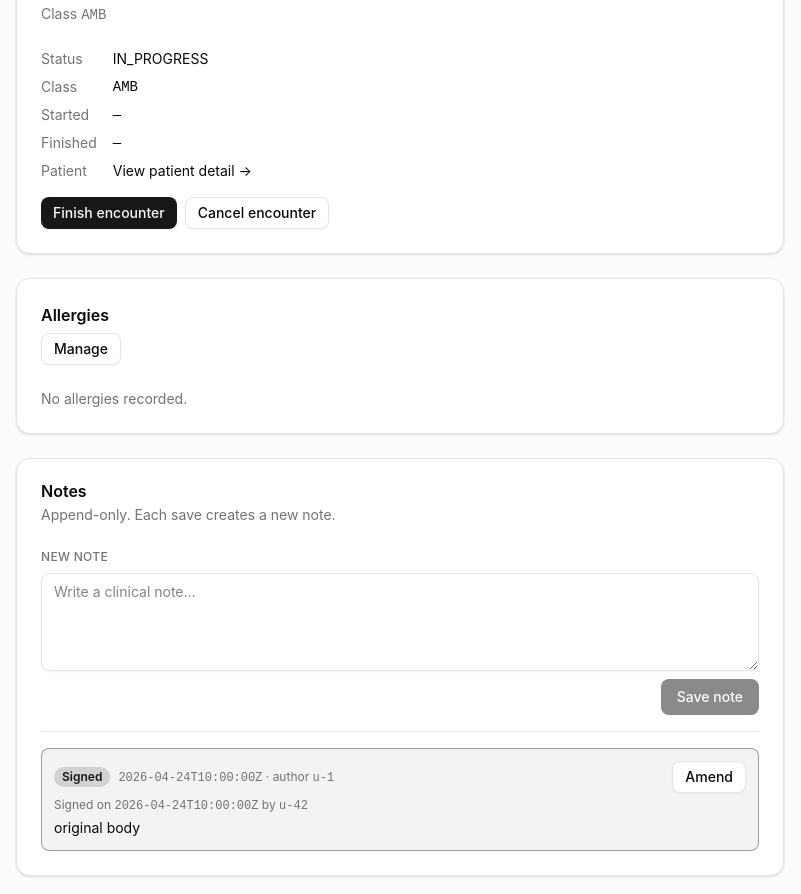
Test case: <EncounterDetailPage /> › submitting an amendment threads it under the original after refetch
(page scrolled)
Expected: the list with test id "notes-list" is shown, [41,748,759,851]
Click the button with test id "amend-note-button" at (709, 777), box [672,761,746,793]
(page scrolled)
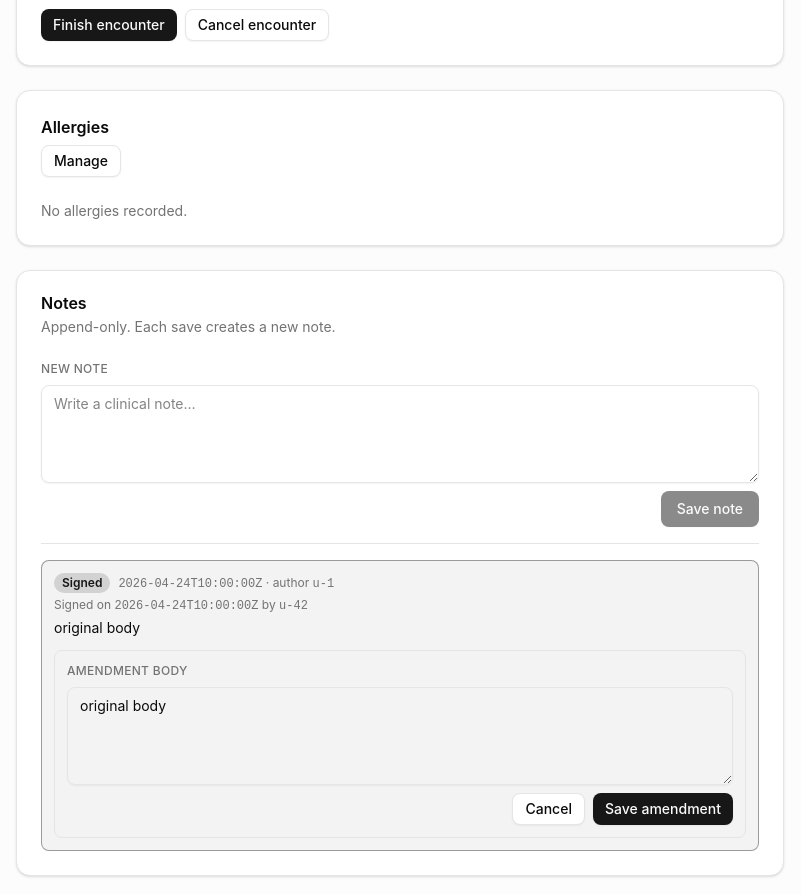
Now the text box with test id "amend-note-textarea" holds "original body"
Note: Replace the text and save.
Replace the text in the text box with test id "amend-note-textarea" with "Correction: dosage was wrong." at (400, 736), box [67,687,733,785]
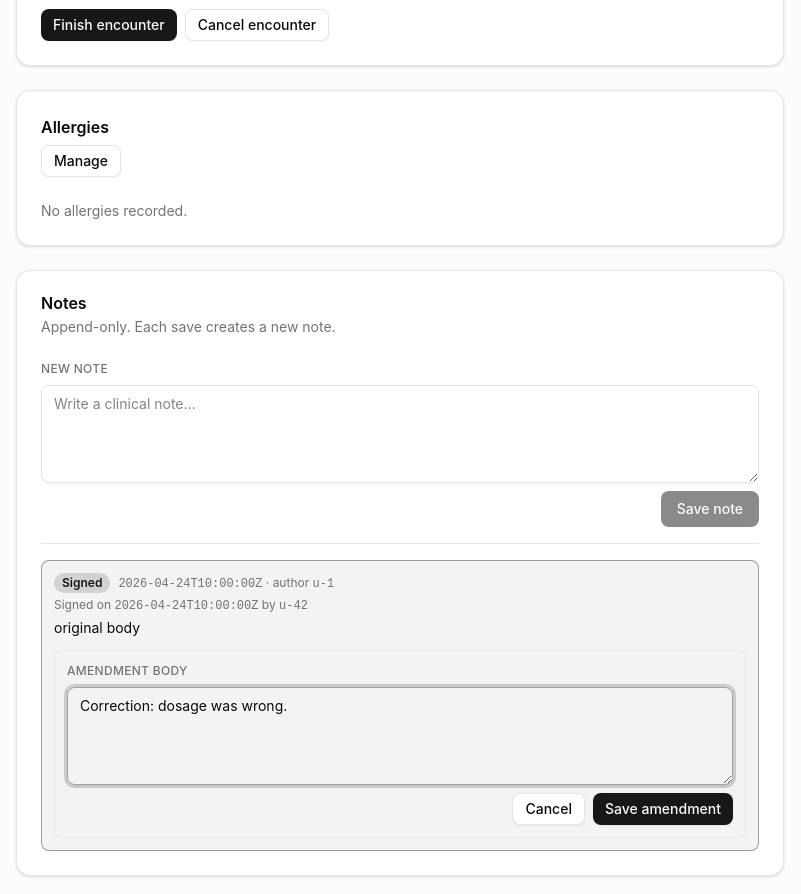
Click the button with test id "amend-save-button" at (663, 809), box [593,793,733,825]
(page scrolled)
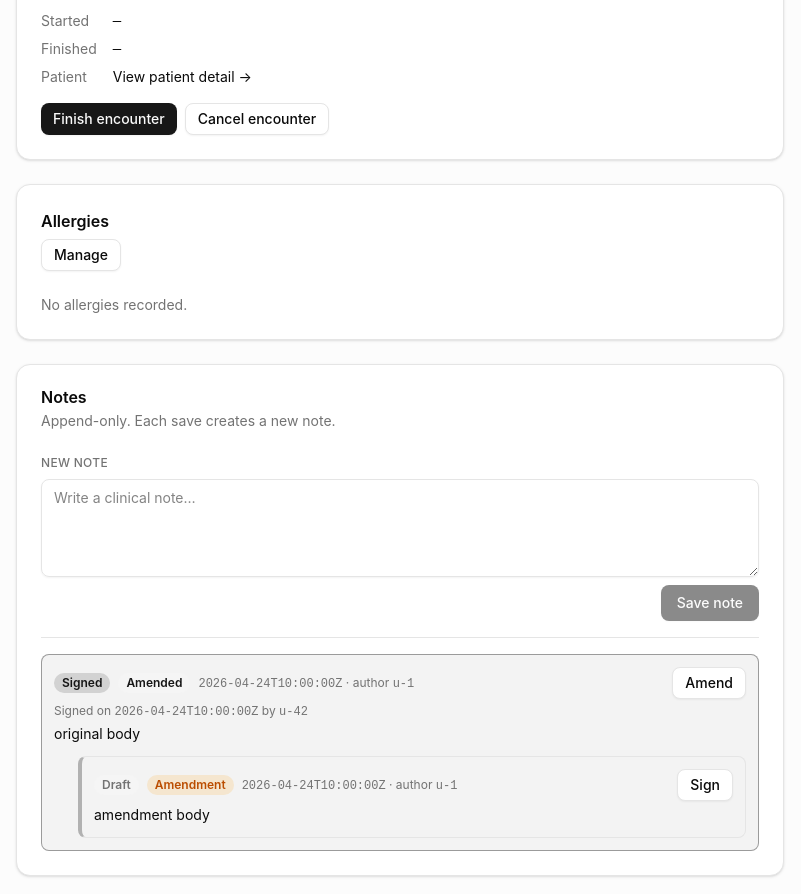
Now the list with test id "note-amendments-thread" is shown, box [54,756,746,838]
Now the list item is shown, box [78,756,746,838]
